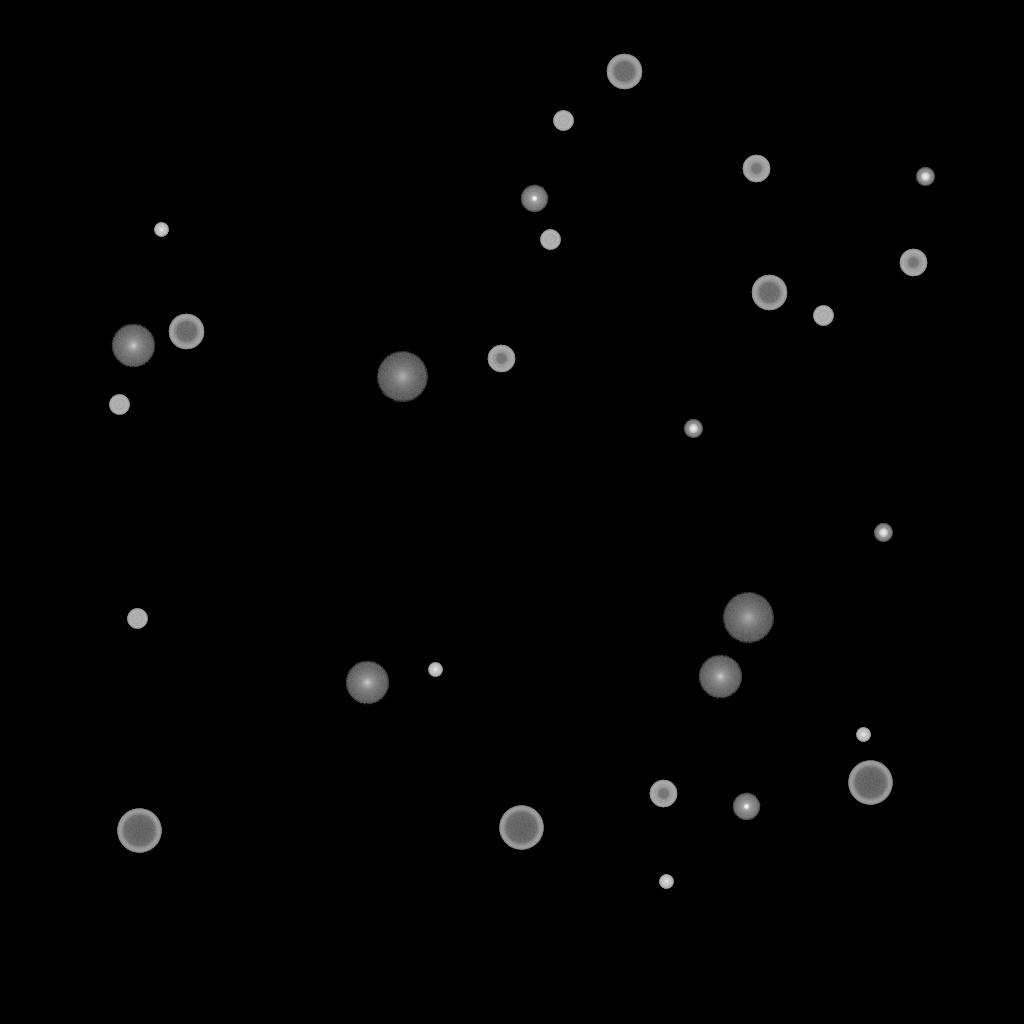depth:-10: (732, 793, 760, 821), (520, 185, 548, 213)
depth:-20: (874, 524, 892, 542), (684, 420, 702, 438), (916, 168, 934, 186)
depth:-30: (154, 223, 168, 237), (856, 728, 870, 742), (659, 875, 673, 889), (428, 663, 442, 677)
depth:-40: (127, 609, 147, 629), (813, 306, 833, 326), (109, 395, 129, 415), (540, 230, 560, 250), (553, 111, 573, 131)
depth:-50: (649, 780, 677, 808), (487, 345, 515, 373), (899, 249, 927, 277), (742, 155, 770, 183)
depth:-60: (606, 54, 642, 90), (751, 275, 787, 311), (168, 314, 204, 350)
depth:-70: (117, 809, 161, 853), (499, 806, 543, 850), (848, 761, 892, 805)
depth:10: (111, 324, 155, 368), (698, 655, 742, 699), (345, 661, 389, 705)
depth:20: (376, 352, 428, 402), (722, 593, 774, 643)
